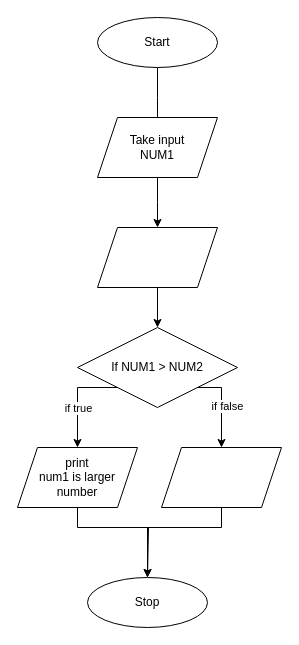
Image size: 299x645. Some labels were removed from this diagram. The shapes that lost their labels are listed below. From the top down, each one's centre as x and y in pixels, then its label:
point 157,257: Take input NUM2
point 221,477: print num2 is larger number
